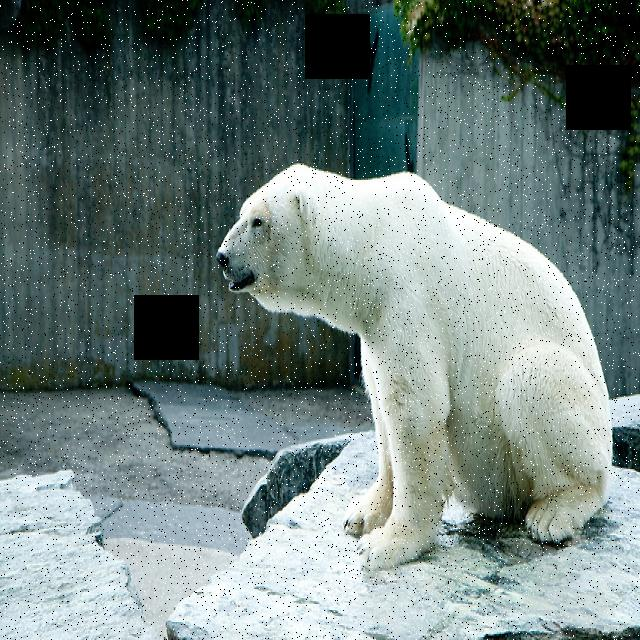Bear: (216, 157, 621, 558)
